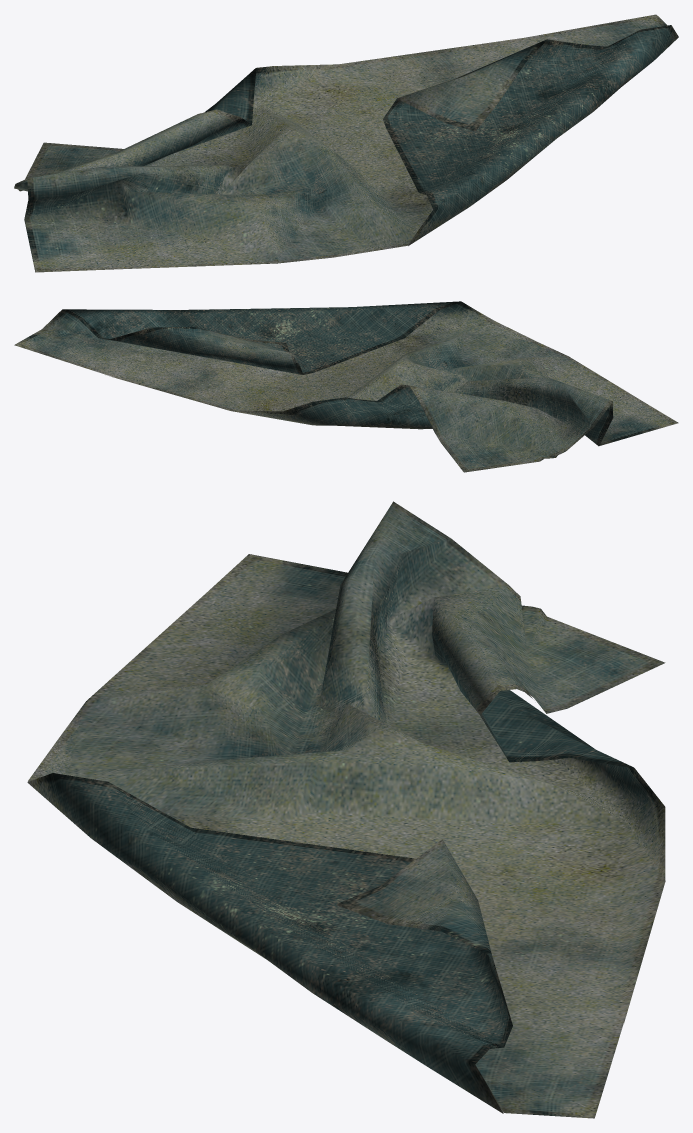
Rendered from TowelD.fbx.
3 views of the same model, one above another, from view 1: azimuth 30°, elevation 25°; view 2: azimuth 150°, elevation 25°; view 3: azimuth 270°, elevation 25° (orthographic). The views are drawn at different scales.
Visible parts, largest first — view 1: TowelD; view 2: TowelD; view 3: TowelD.
Boxes of the visible parts, x1=… form: TowelD: x1=14, y1=14, x2=678, y2=272; TowelD: x1=14, y1=301, x2=678, y2=472; TowelD: x1=27, y1=501, x2=665, y2=1118.
Bounding box in the file's own units: 103 × 7.03 × 49.1.
